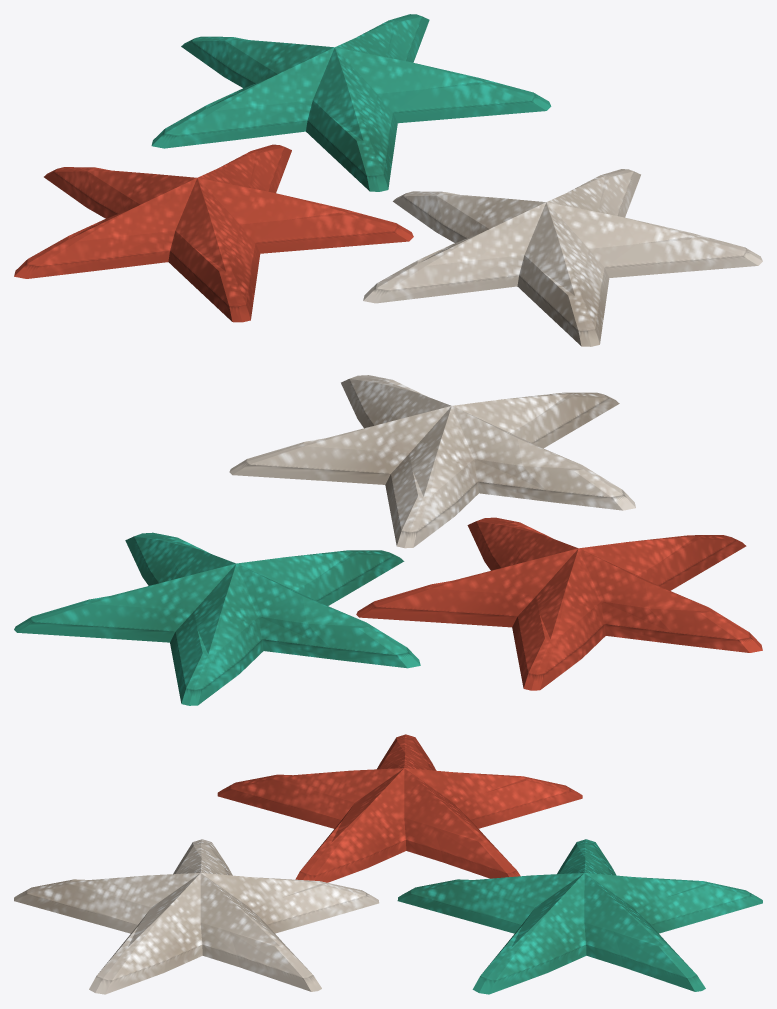
File: starfish.glb
The picture shows the model from 3 angles, top to bottom: view 1: azimuth 30°, elevation 25°; view 2: azimuth 150°, elevation 25°; view 3: azimuth 270°, elevation 25°; orthographic projection. The views are drawn at different scales.
Visible parts, largest first — view 1: Node; view 2: Node; view 3: Node.
Boxes of the visible parts, x1,y1,x2,y2 form: Node: (14, 14, 762, 346); Node: (14, 375, 762, 705); Node: (14, 734, 762, 994).
Bounding box in the file's own units: 8.37 × 0.7612 × 10.31.
3 materials, 3 textured.
